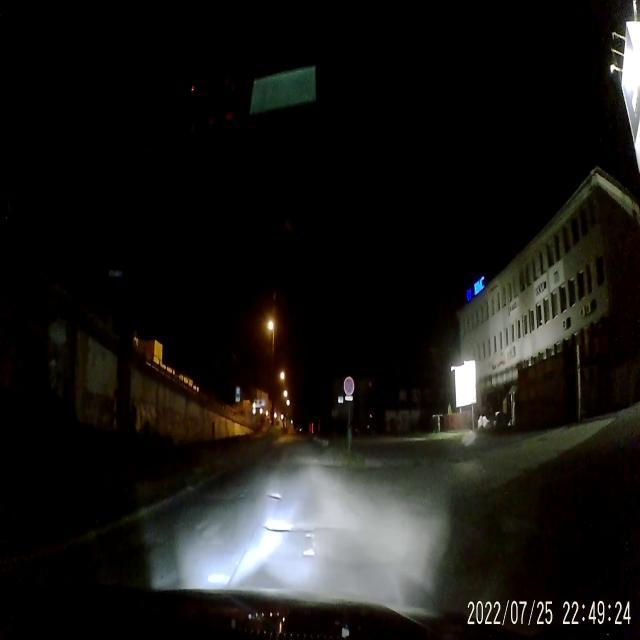Pothole: (263, 514, 295, 534), (299, 524, 317, 544), (266, 489, 284, 505), (299, 550, 324, 560)
